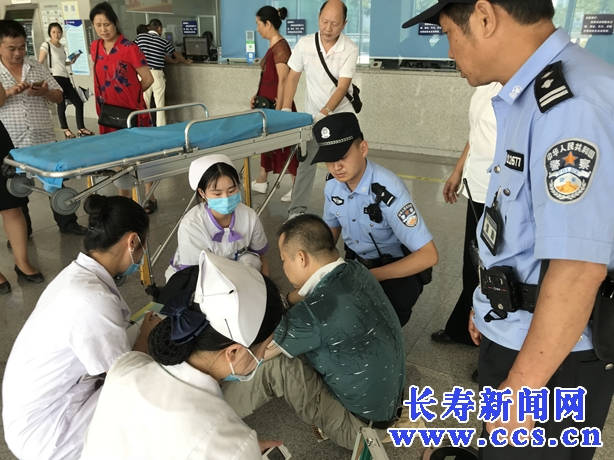10+: (1, 1, 614, 459)
down: (198, 208, 415, 452)
